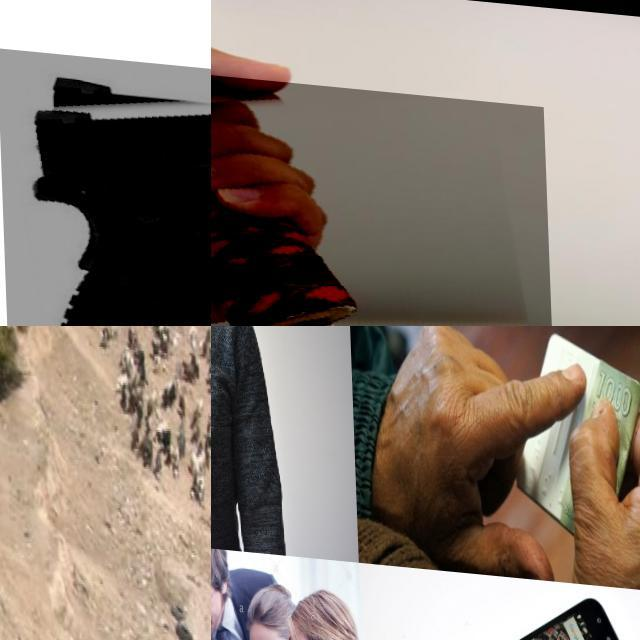-: (211, 65, 558, 326)
gun-knife-thesis - v11 Yolov5 augmented: (0, 326, 204, 640), (0, 48, 211, 326)
